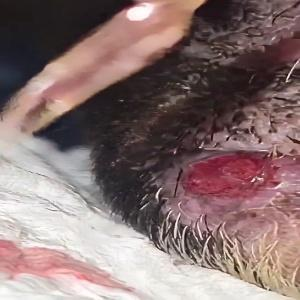skin_lesions: (176, 143, 277, 198)
